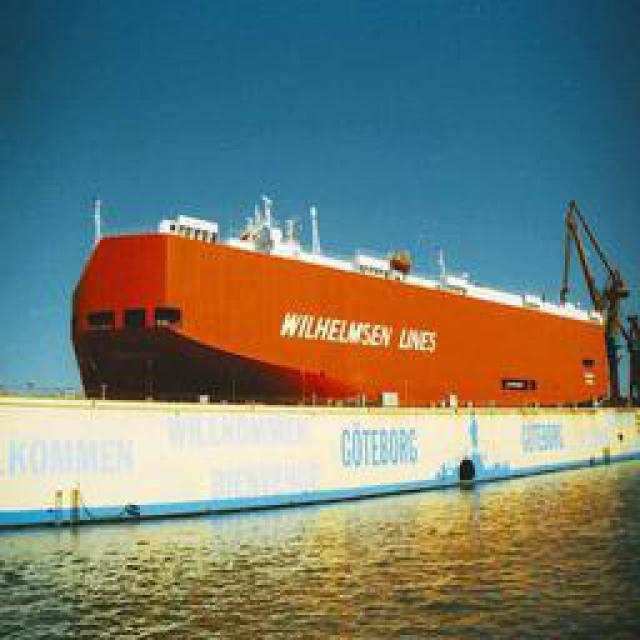Ship: (30, 220, 625, 483)
